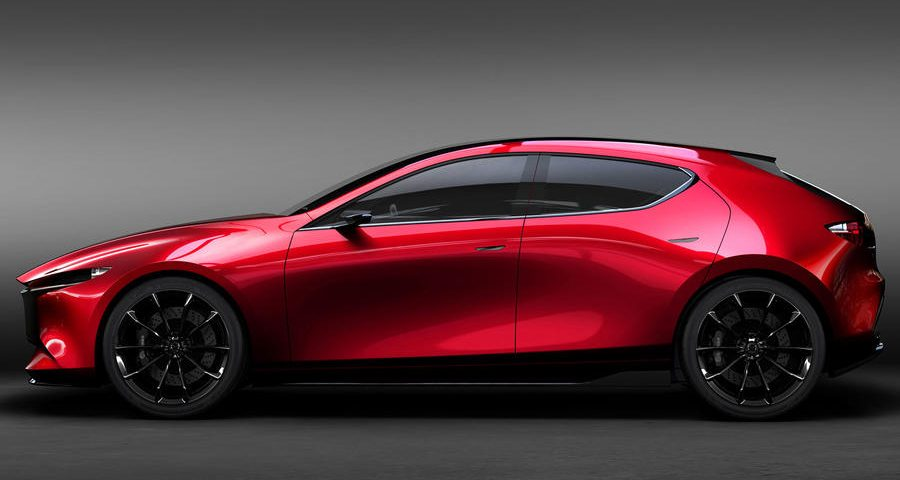Mazda3 Hatchback: (14, 135, 886, 422)
